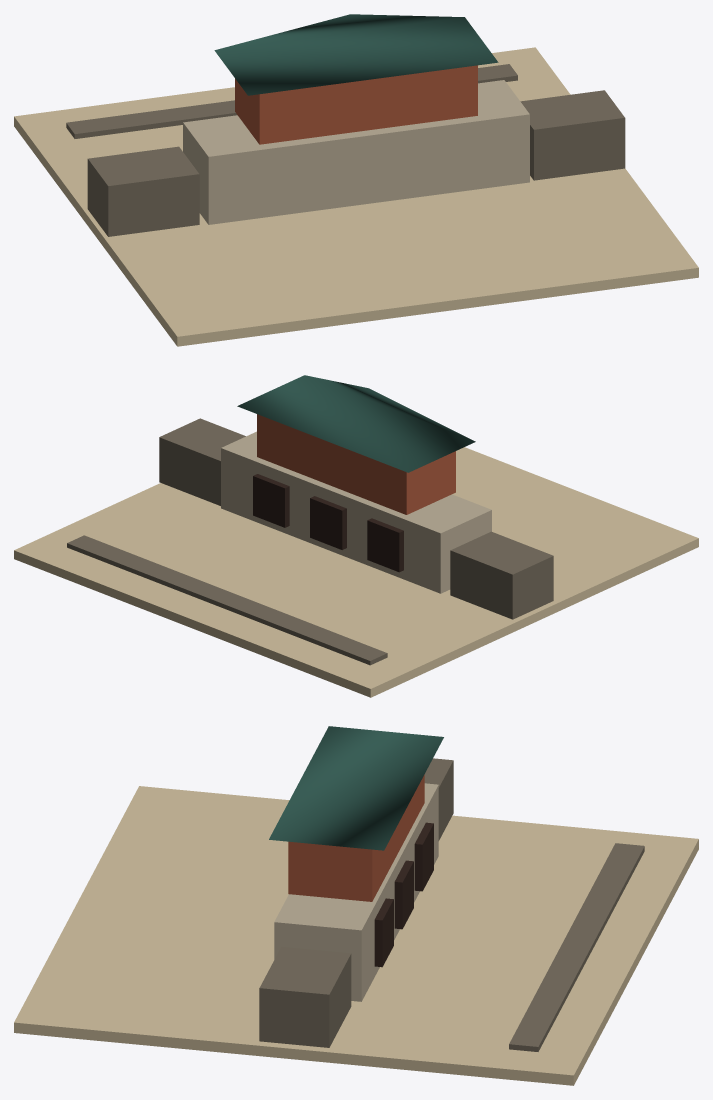
File: model-medium.glb
3 renders of one model, top to bottom at view 1: azimuth 30°, elevation 25°; view 2: azimuth 150°, elevation 25°; view 3: azimuth 270°, elevation 25°, orthographic. The views are drawn at different scales.
Parts seen in each view (by area): view 1: context_site_plinth, city_gate_platform, side_wall_segment (×2), gatehouse_roof, upper_gatehouse_body, front_scale_strip; view 2: context_site_plinth, city_gate_platform, side_wall_segment (×2), gatehouse_roof, upper_gatehouse_body, front_scale_strip, arched_gate_opening (×3); view 3: context_site_plinth, gatehouse_roof, side_wall_segment (×2), city_gate_platform, front_scale_strip, upper_gatehouse_body, arched_gate_opening (×3).
Boxes of the visible parts, x1=… form: context_site_plinth: x1=14, y1=47, x2=698, y2=346; city_gate_platform: x1=183, y1=80, x2=529, y2=224; side_wall_segment (×2): x1=87, y1=90, x2=625, y2=236; gatehouse_roof: x1=214, y1=14, x2=498, y2=95; upper_gatehouse_body: x1=235, y1=65, x2=477, y2=144; front_scale_strip: x1=66, y1=64, x2=517, y2=138; context_site_plinth: x1=14, y1=447, x2=698, y2=697; city_gate_platform: x1=221, y1=431, x2=491, y2=593; side_wall_segment (×2): x1=159, y1=418, x2=553, y2=619; gatehouse_roof: x1=237, y1=375, x2=475, y2=472; upper_gatehouse_body: x1=257, y1=414, x2=455, y2=514; front_scale_strip: x1=67, y1=535, x2=387, y2=665; arched_gate_opening (×3): x1=253, y1=474, x2=403, y2=572; context_site_plinth: x1=14, y1=786, x2=698, y2=1085; gatehouse_roof: x1=269, y1=726, x2=443, y2=850; side_wall_segment (×2): x1=259, y1=758, x2=453, y2=1047; city_gate_platform: x1=274, y1=783, x2=438, y2=1001; front_scale_strip: x1=509, y1=843, x2=644, y2=1051; upper_gatehouse_body: x1=288, y1=774, x2=424, y2=901; arched_gate_opening (×3): x1=374, y1=822, x2=433, y2=967.
Bounding box in the file's own units: 9.55 × 2.9 × 9.55.
